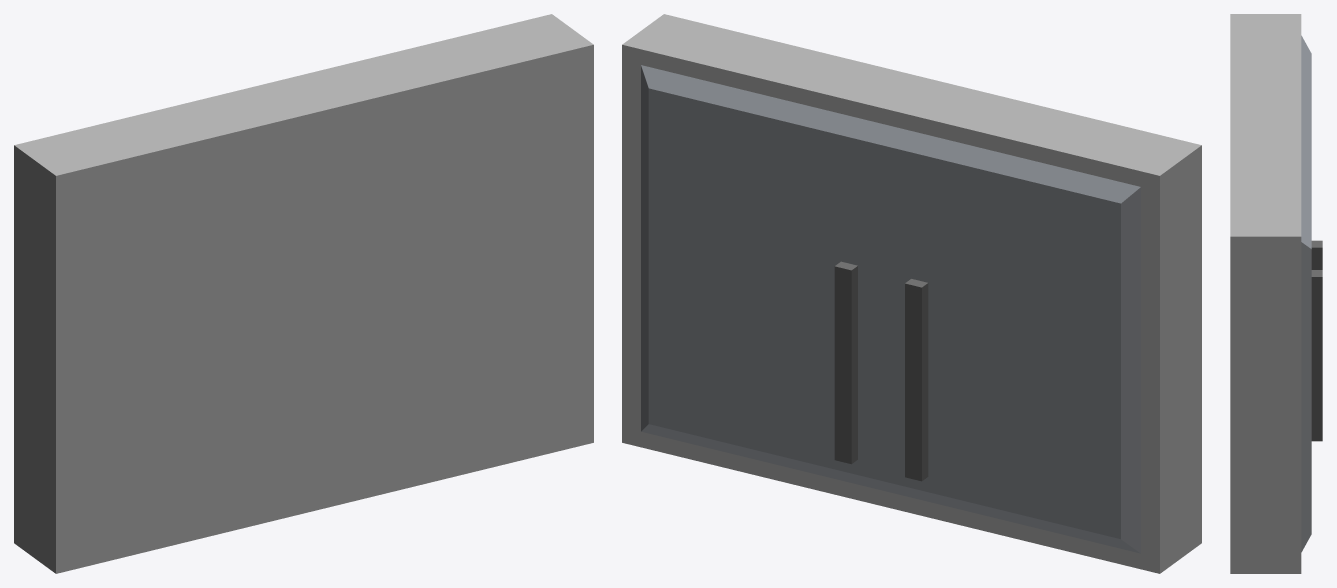
The model's file is Prop_Cupboards.fbx.
3 renders of one model, left to right at view 1: azimuth 30°, elevation 25°; view 2: azimuth 150°, elevation 25°; view 3: azimuth 270°, elevation 25°, orthographic. The views are drawn at different scales.
Visible parts, largest first — view 1: Cupboards; view 2: Cupboards; view 3: Cupboards.
Part boxes in pixels (<box>): Cupboards: <box>14,14,593,573</box>; Cupboards: <box>622,14,1201,573</box>; Cupboards: <box>1230,14,1322,573</box>.
Size of the model in its own units: 103 by 18.03 by 72.57.
1 material, 1 textured.
